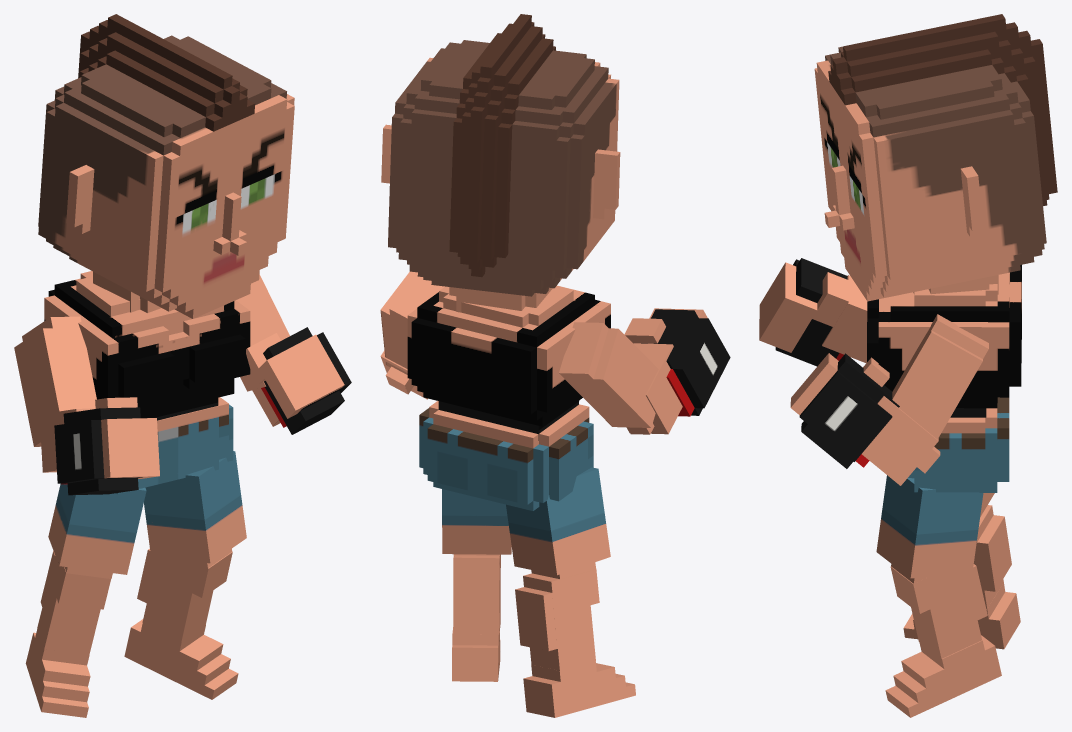
The model's file is pose de pelea.fbx.
The picture shows the model from 3 angles, left to right: view 1: azimuth 30°, elevation 25°; view 2: azimuth 150°, elevation 25°; view 3: azimuth 270°, elevation 25°; orthographic projection. The views are drawn at different scales.
Visible parts, largest first — view 1: woman; view 2: woman; view 3: woman.
Part boxes in pixels (x1,y1,x2,y2): woman: [14, 14, 351, 717]; woman: [380, 14, 730, 717]; woman: [759, 14, 1057, 717].
Size of the model in its own units: 284 by 616 by 251.
1 material, 1 textured.
